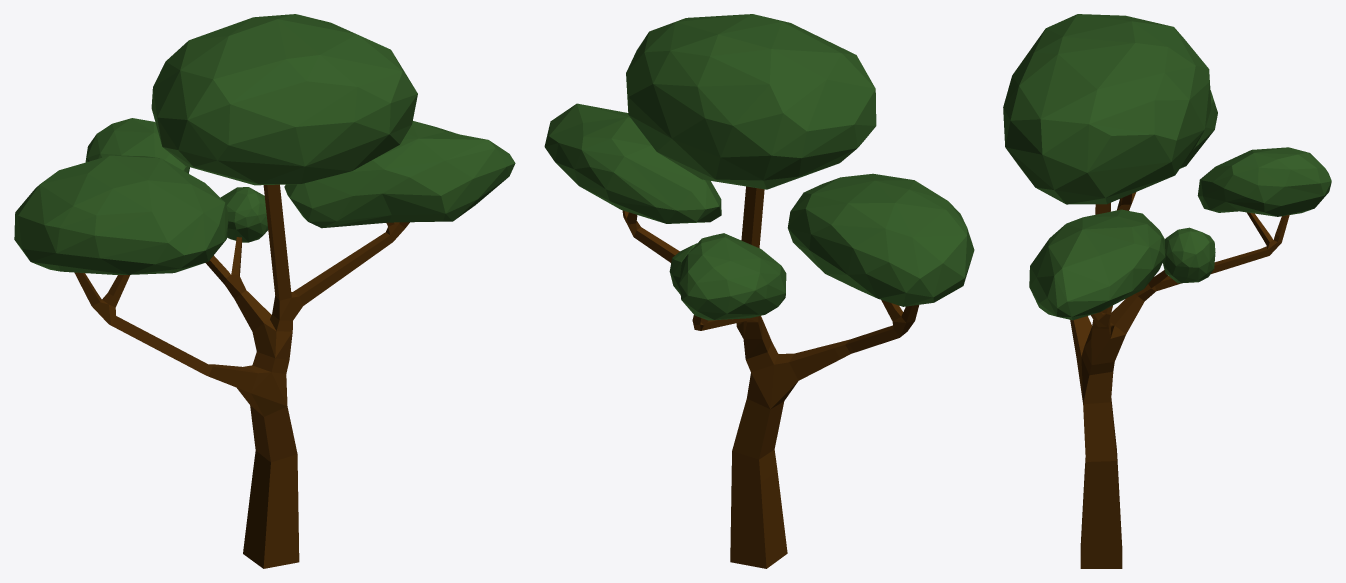
File: Tree.glb
The picture shows the model from 3 angles, left to right: view 1: azimuth 30°, elevation 25°; view 2: azimuth 150°, elevation 25°; view 3: azimuth 270°, elevation 25°; orthographic projection.
Visible parts, largest first — view 1: Icosphere.001, Icosphere, Plane, Icosphere.004, Icosphere.003, Icosphere.002; view 2: Icosphere.001, Icosphere, Plane, Icosphere.004, Icosphere.003; view 3: Icosphere.001, Plane, Icosphere.004, Icosphere.003, Icosphere.002, Icosphere.
Part boxes in pixels (bbox=[...]): Icosphere.001: bbox=[151, 14, 417, 185]; Icosphere: bbox=[14, 155, 228, 274]; Plane: bbox=[74, 184, 409, 568]; Icosphere.004: bbox=[284, 121, 515, 228]; Icosphere.003: bbox=[85, 118, 189, 173]; Icosphere.002: bbox=[220, 187, 268, 242]; Icosphere.001: bbox=[626, 14, 876, 189]; Icosphere: bbox=[787, 173, 974, 306]; Plane: bbox=[622, 186, 919, 568]; Icosphere.004: bbox=[544, 103, 721, 223]; Icosphere.003: bbox=[679, 233, 786, 320]; Icosphere.001: bbox=[1003, 14, 1211, 204]; Plane: bbox=[1070, 192, 1289, 568]; Icosphere.004: bbox=[1029, 209, 1165, 320]; Icosphere.003: bbox=[1197, 147, 1331, 216]; Icosphere.002: bbox=[1163, 227, 1215, 283]; Icosphere: bbox=[1180, 90, 1217, 168].
Bounding box in the file's own units: 0.9864 × 1.1 × 0.6184.
